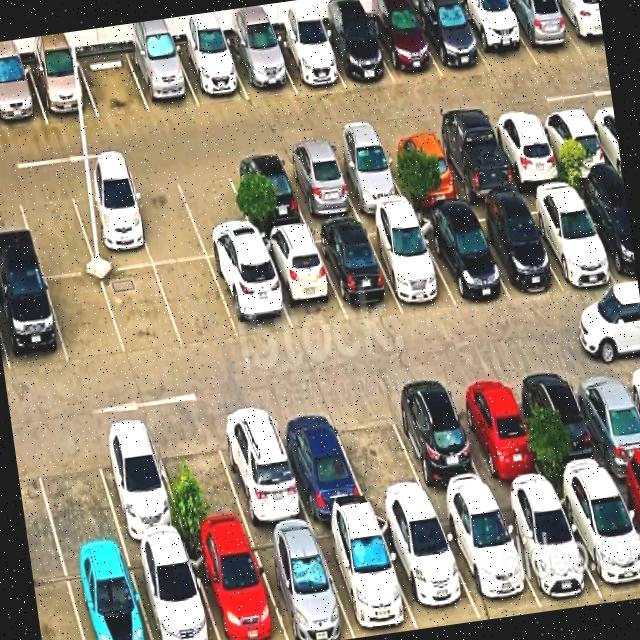empty: (328, 394, 431, 511), (151, 419, 250, 540), (30, 431, 124, 558), (174, 161, 259, 258), (125, 171, 207, 265), (16, 184, 97, 278), (155, 259, 239, 348), (101, 266, 183, 356), (46, 274, 126, 364), (78, 50, 150, 118)
occupied: (385, 383, 493, 506), (435, 498, 542, 619), (495, 490, 603, 609), (312, 516, 417, 638), (375, 509, 481, 629), (447, 374, 550, 496), (212, 405, 310, 531), (249, 526, 354, 640), (90, 424, 186, 547), (270, 402, 369, 521), (516, 365, 612, 486), (554, 478, 640, 603), (186, 534, 287, 640), (521, 189, 618, 289), (415, 210, 510, 307), (466, 202, 561, 298), (259, 230, 347, 333), (127, 542, 219, 640), (363, 217, 457, 311), (312, 223, 402, 321), (566, 359, 640, 477), (69, 177, 153, 272), (63, 550, 151, 640), (209, 253, 293, 339), (432, 124, 518, 203), (226, 154, 308, 235), (573, 183, 638, 285), (0, 276, 68, 373), (279, 147, 360, 225), (328, 141, 409, 216), (380, 132, 463, 205), (457, 0, 538, 74), (488, 114, 566, 190), (536, 108, 614, 181), (367, 10, 442, 84), (413, 6, 490, 77), (500, 0, 584, 65), (319, 19, 394, 88), (126, 45, 199, 113), (174, 41, 249, 107), (28, 56, 98, 125), (271, 29, 345, 93), (226, 35, 296, 99), (0, 63, 48, 131), (551, 0, 606, 58), (612, 472, 640, 540)
